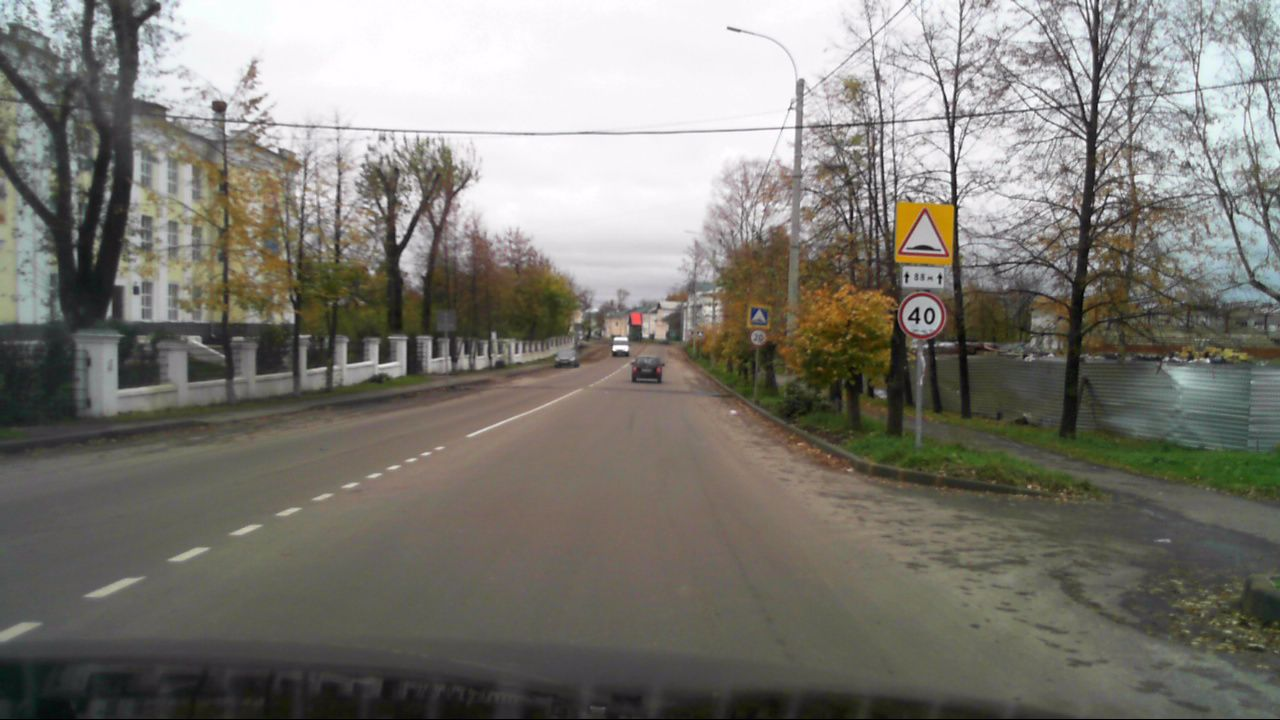speed_warning_40: (898, 292, 944, 340)
